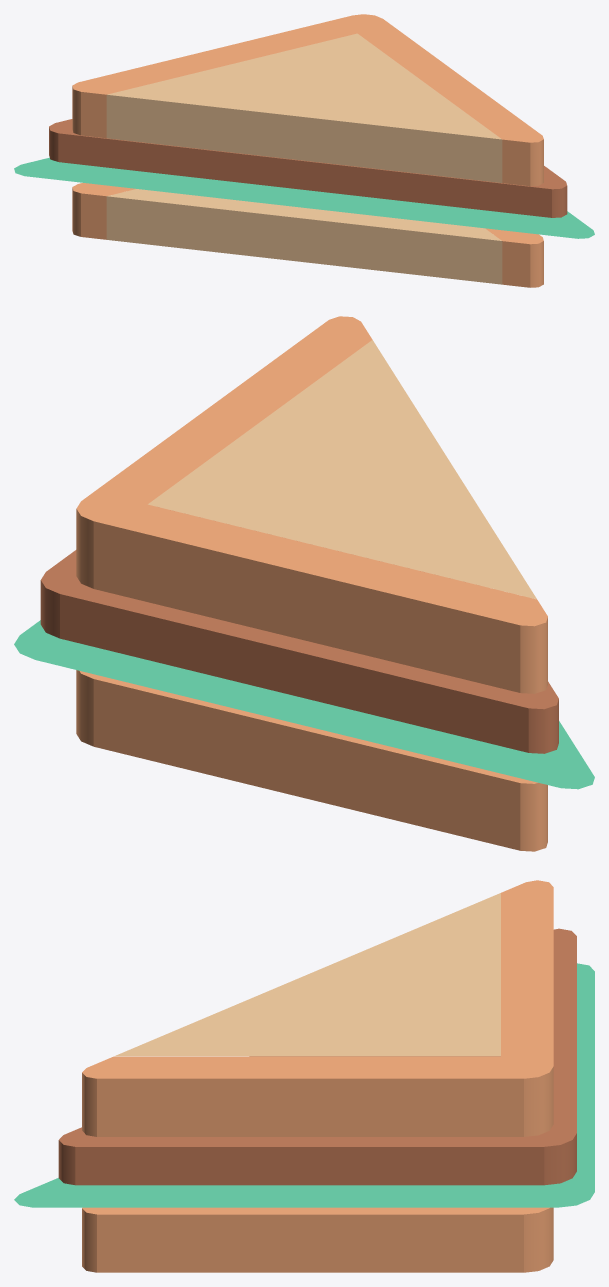
The model's file is sandwich.glb.
The picture shows the model from 3 angles, top to bottom: view 1: azimuth 30°, elevation 25°; view 2: azimuth 150°, elevation 25°; view 3: azimuth 270°, elevation 25°; orthographic projection. The views are drawn at different scales.
Parts seen in each view (by area): view 1: sandwich, lettuce; view 2: sandwich, lettuce; view 3: sandwich, lettuce.
Boxes of the visible parts, x1,y1,x2,y2 form: sandwich: (49, 14, 567, 287); lettuce: (14, 157, 594, 238); sandwich: (40, 316, 558, 851); lettuce: (14, 620, 594, 789); sandwich: (58, 880, 576, 1272); lettuce: (14, 963, 594, 1207).
Size of the model in its own units: 0.4323 by 0.1598 by 0.4339.
